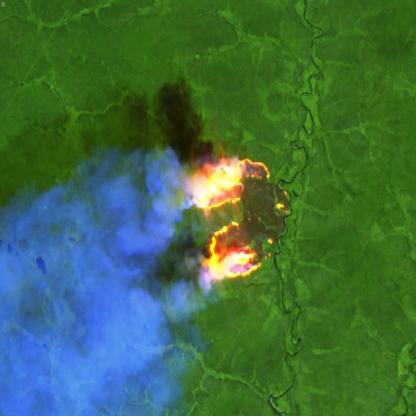fire: (179, 149, 294, 294)
